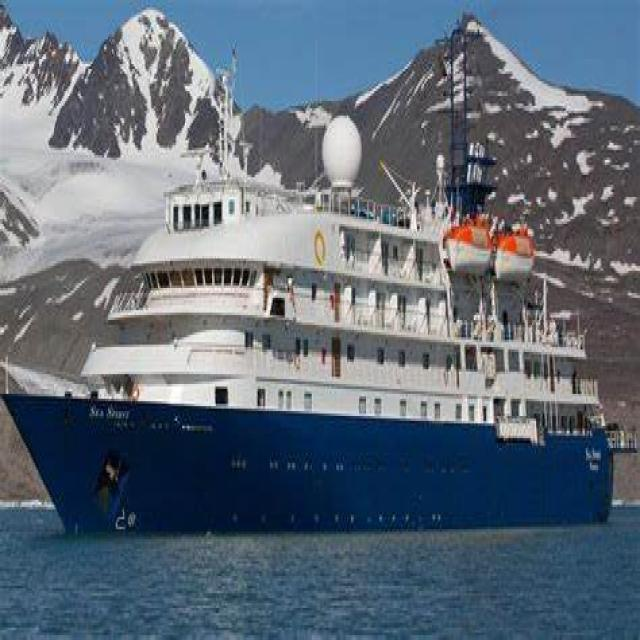PassengerShip: (0, 180, 640, 516)
